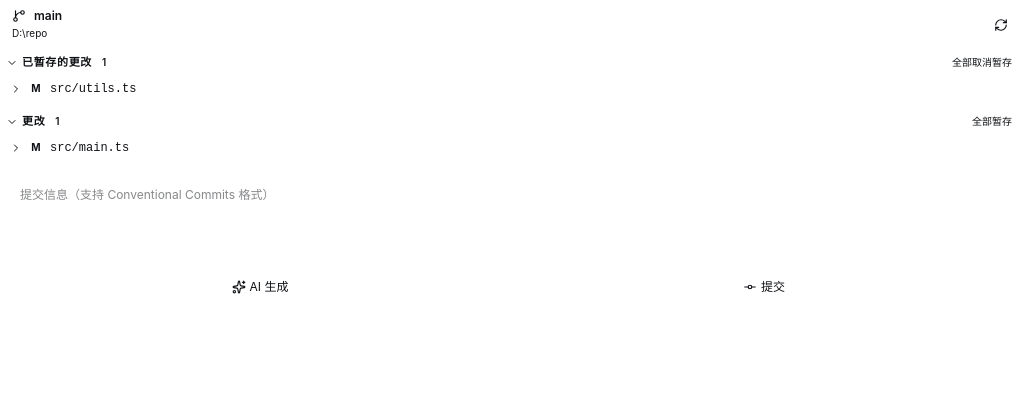
SourceControlPanel › expands a file row to show its diff for review
The width and height of the screenshot is (1024, 402).
Click the text "src/main.ts".
click(90, 148)  # box [50,141,129,155]
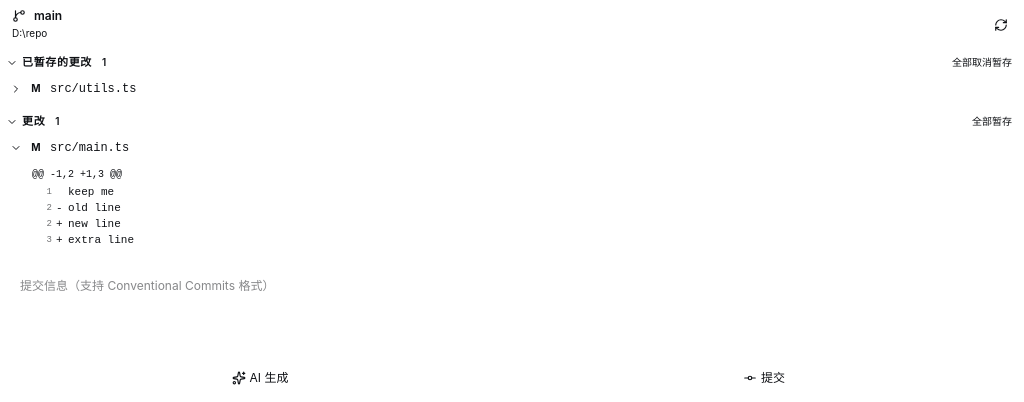
Expected: the text "@@ -1,2 +1,3 @@" is shown, [32,169,122,180]
Expected: the text "keep me" is shown, [68,186,114,198]
Expected: the text "old line" is shown, [68,202,121,214]
